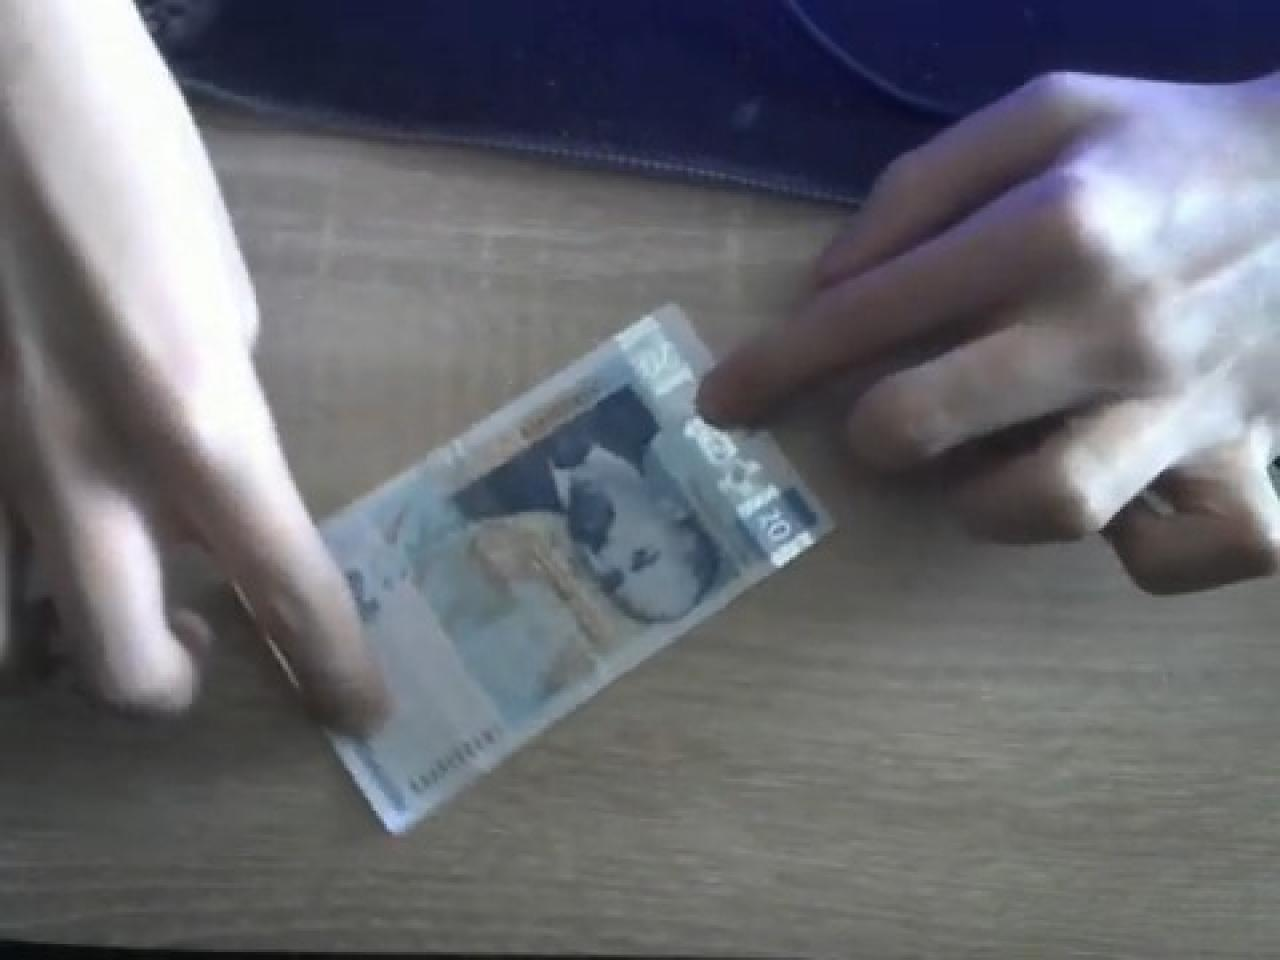20leva: (298, 296, 838, 835)
